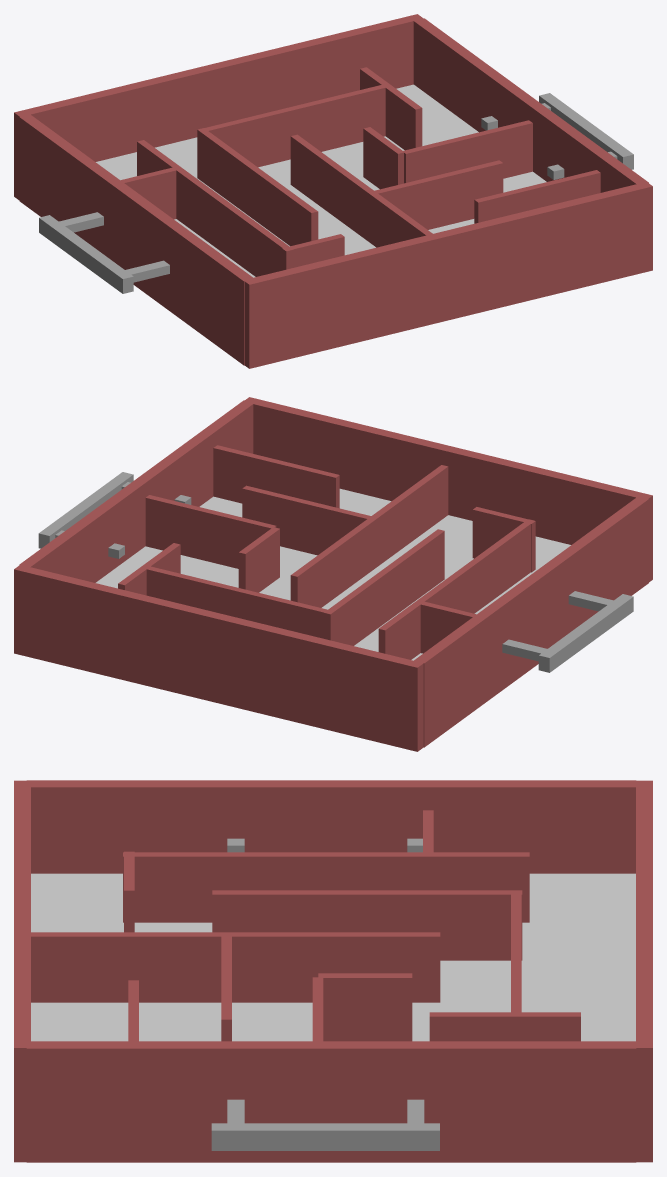
File: Amaze.fbx
3 renders of one model, top to bottom at view 1: azimuth 30°, elevation 25°; view 2: azimuth 150°, elevation 25°; view 3: azimuth 270°, elevation 25°, orthographic. The views are drawn at different scales.
Visible parts, largest first — view 1: Amaze; view 2: Amaze; view 3: Amaze.
Boxes of the visible parts, left/top/right/bottom form: Amaze: left=14, top=14, right=652, bottom=368; Amaze: left=14, top=397, right=652, bottom=751; Amaze: left=14, top=780, right=652, bottom=1162.
Size of the model in its own units: 61.11 by 9.63 by 48.76.
